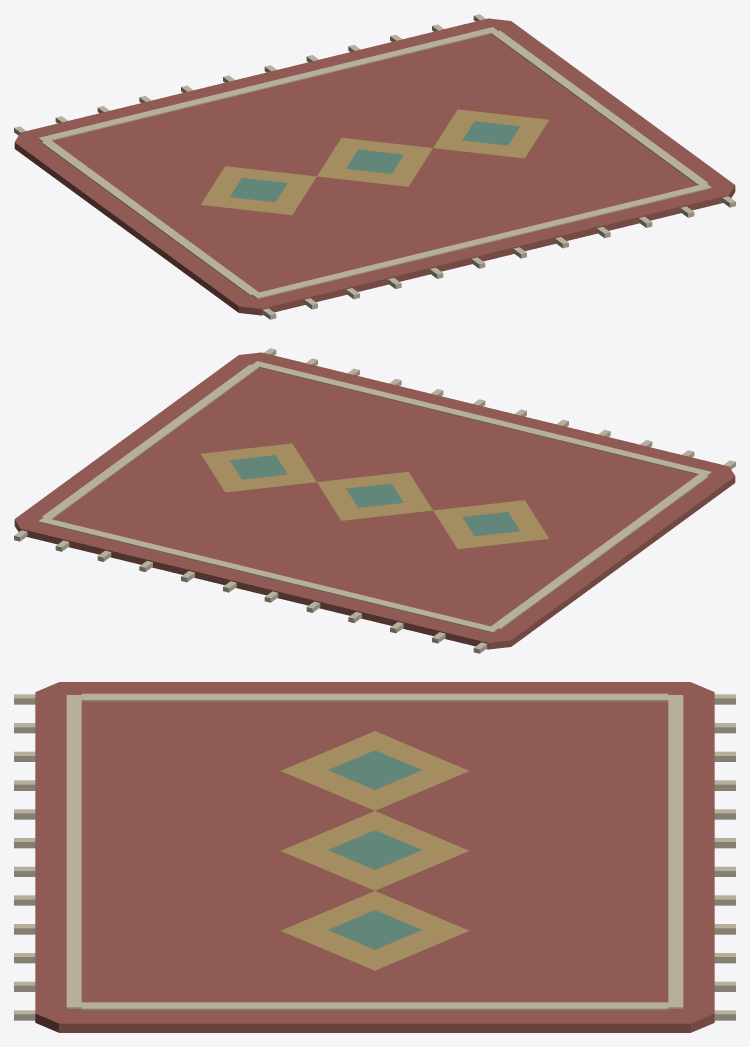
File: rug_large.glb
3 renders of one model, top to bottom at view 1: azimuth 30°, elevation 25°; view 2: azimuth 150°, elevation 25°; view 3: azimuth 270°, elevation 25°, orthographic. The views are drawn at different scales.
Parts seen in each view (by area): view 1: geometry; view 2: geometry; view 3: geometry.
Part boxes in pixels (x1,y1,x2,y2): geometry: (14,14,735,319); geometry: (14,348,735,653); geometry: (14,682,735,1032).
Size of the model in its own units: 1.88 by 0.031 by 1.68.
